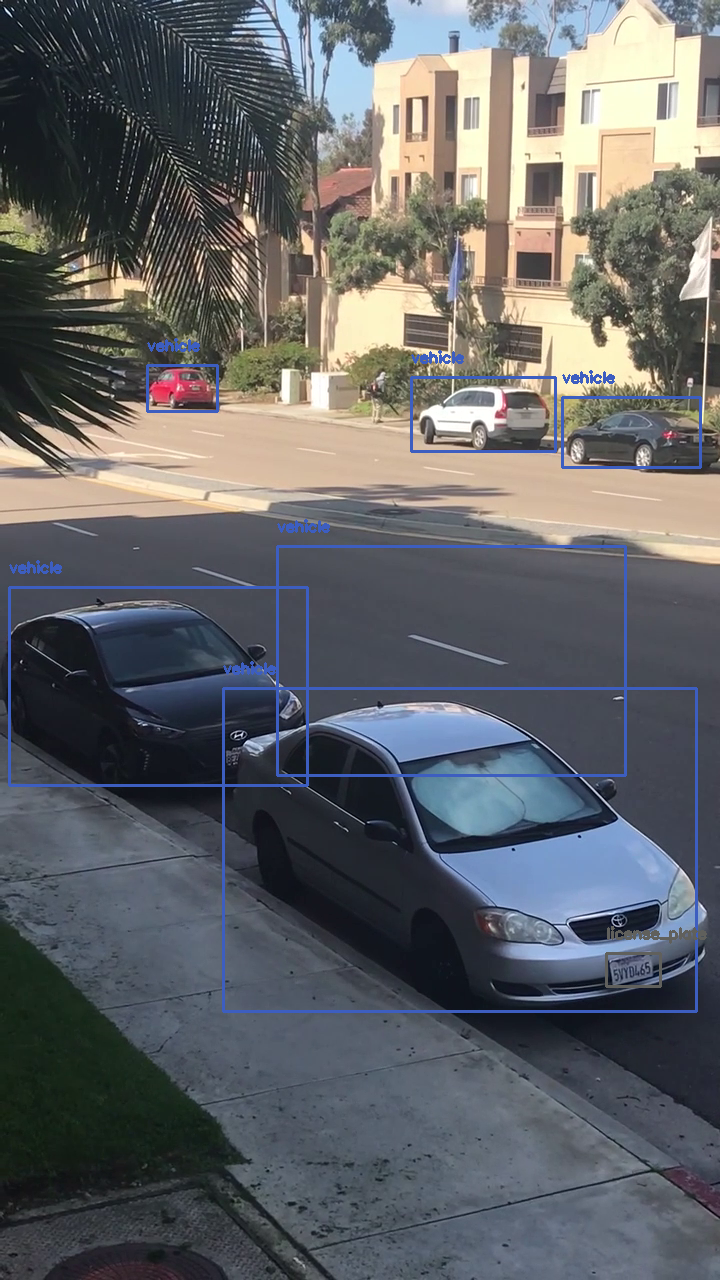license_plate: (606, 953, 660, 986)
vehicle: (223, 688, 696, 1011), (277, 546, 625, 775), (9, 587, 307, 785), (411, 377, 555, 451), (562, 397, 700, 467), (147, 365, 217, 411)
